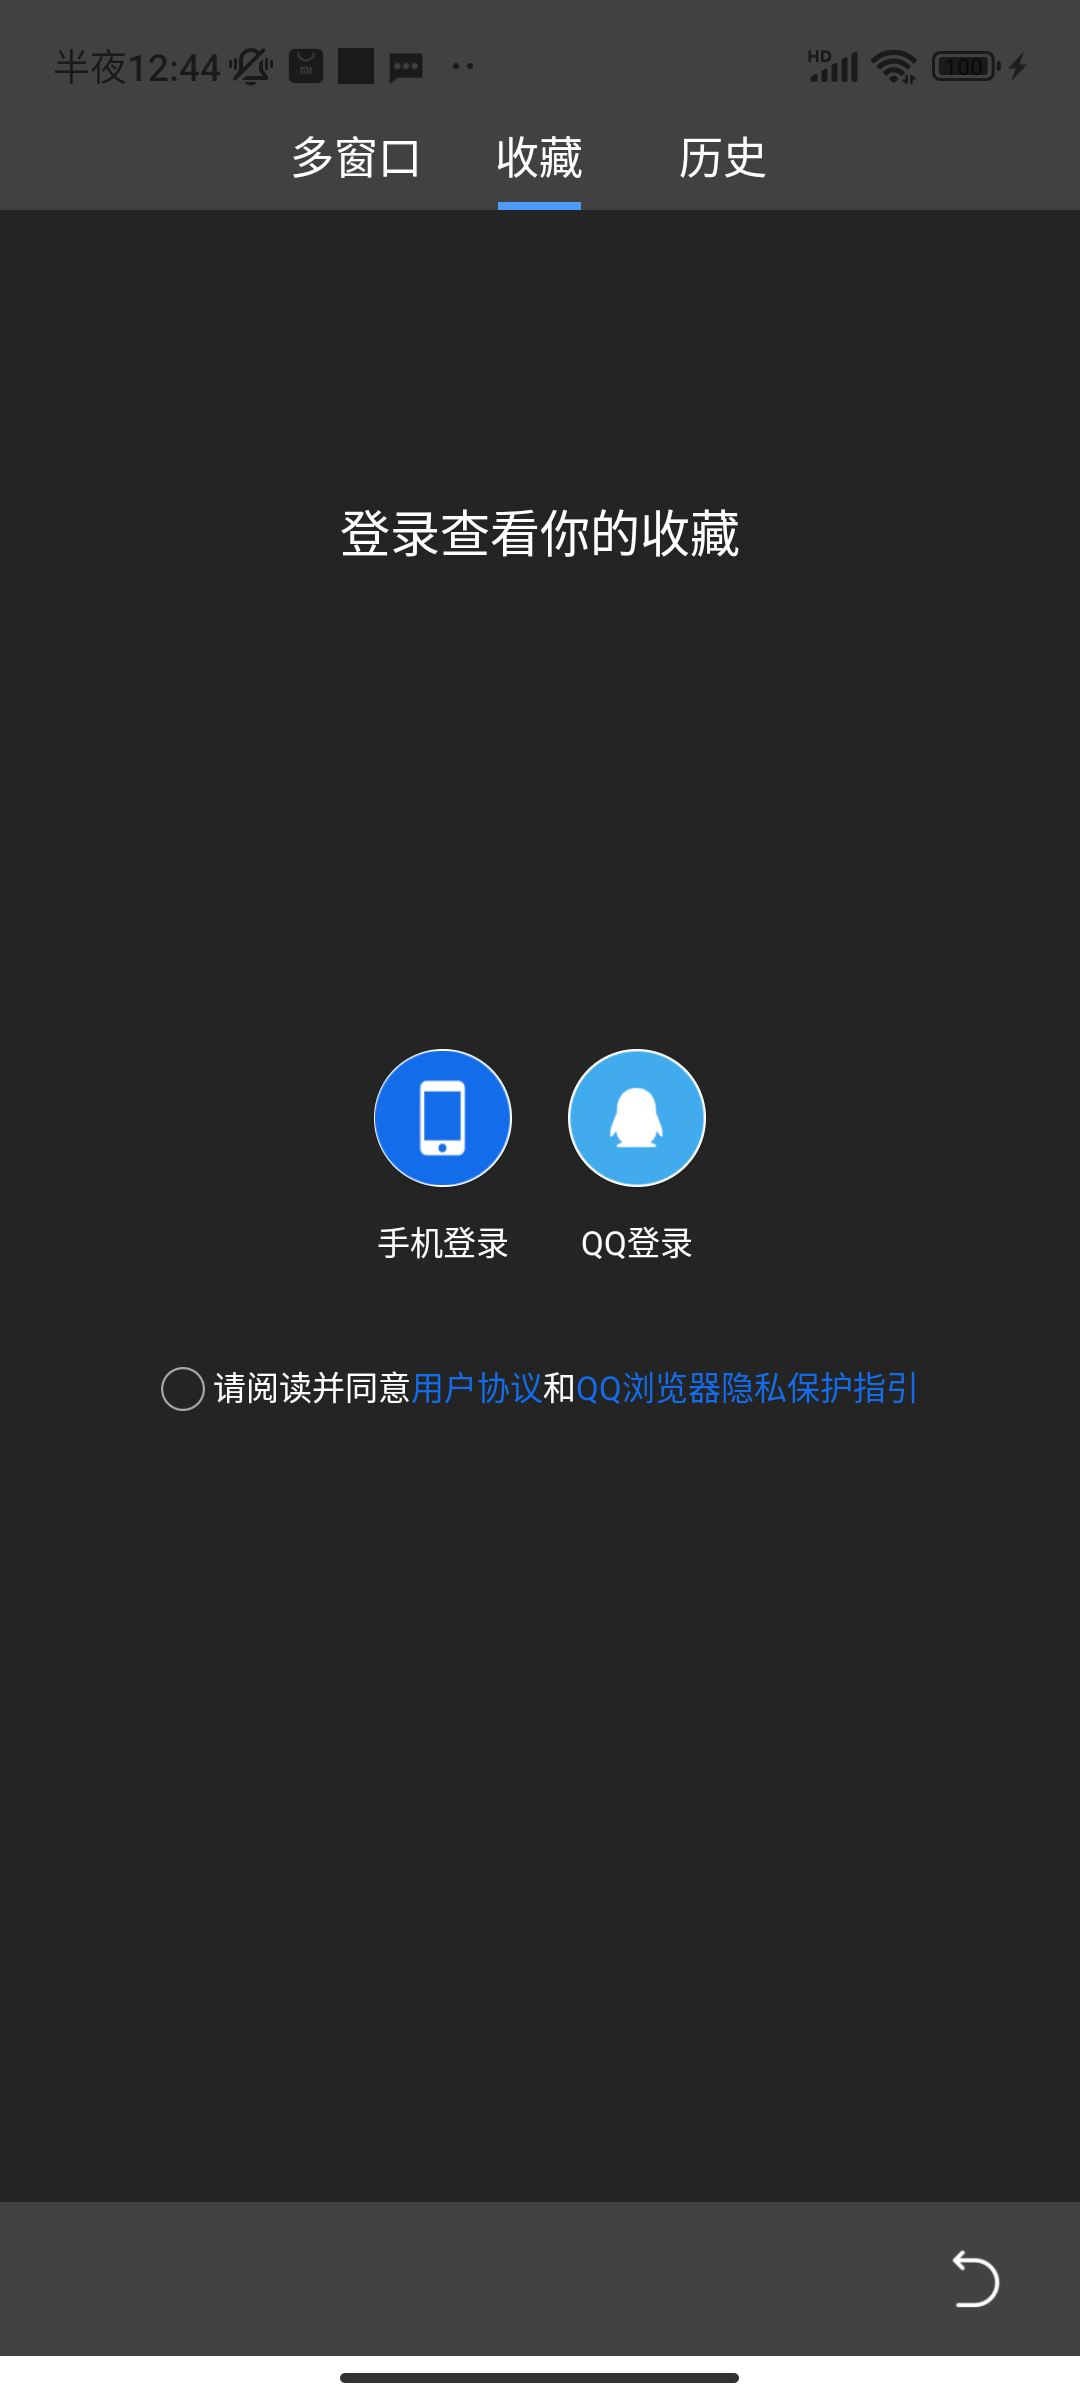ui_group: (119, 1032, 962, 1433), (642, 112, 818, 210)
